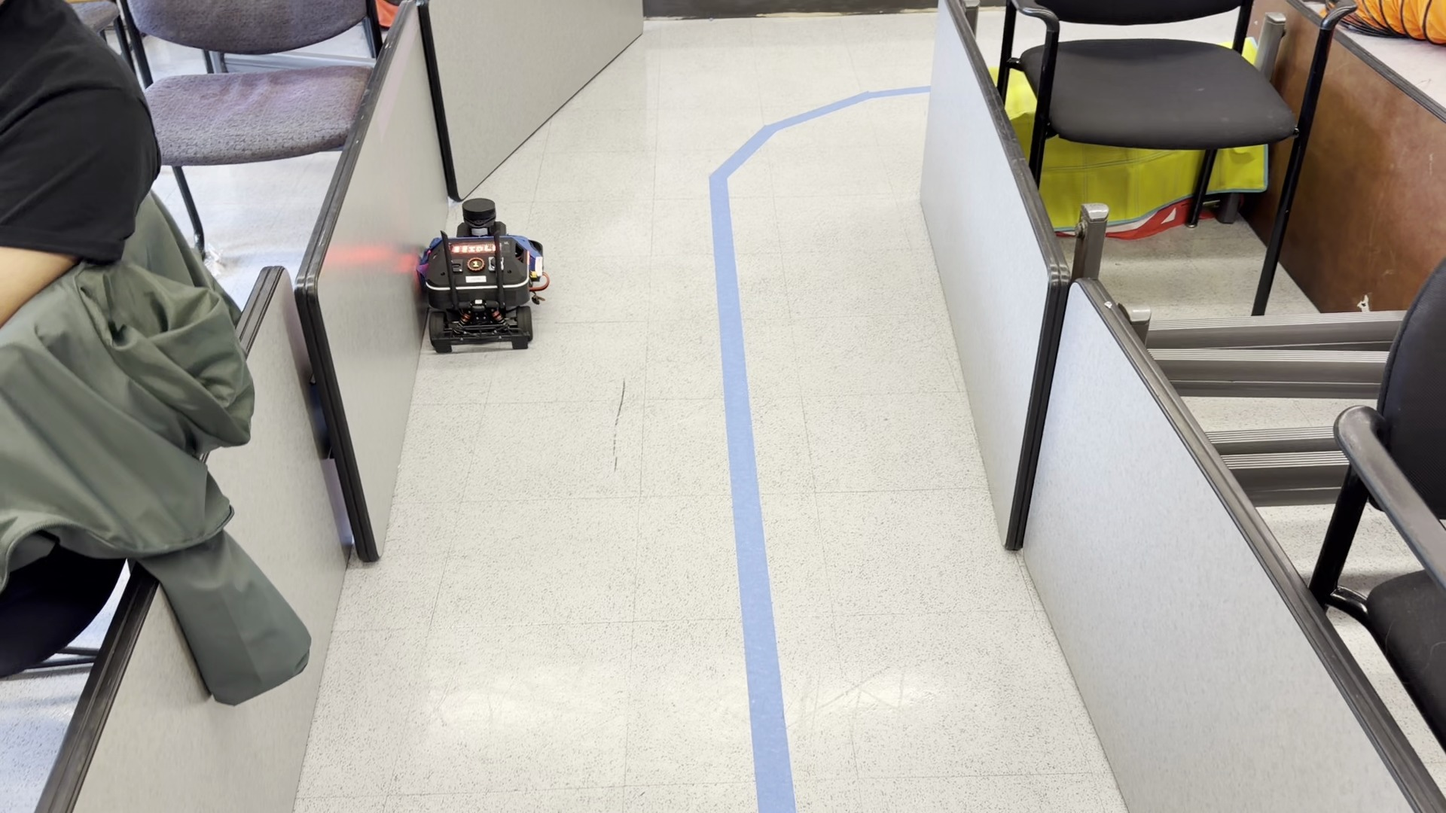racecar: (414, 195, 546, 349)
